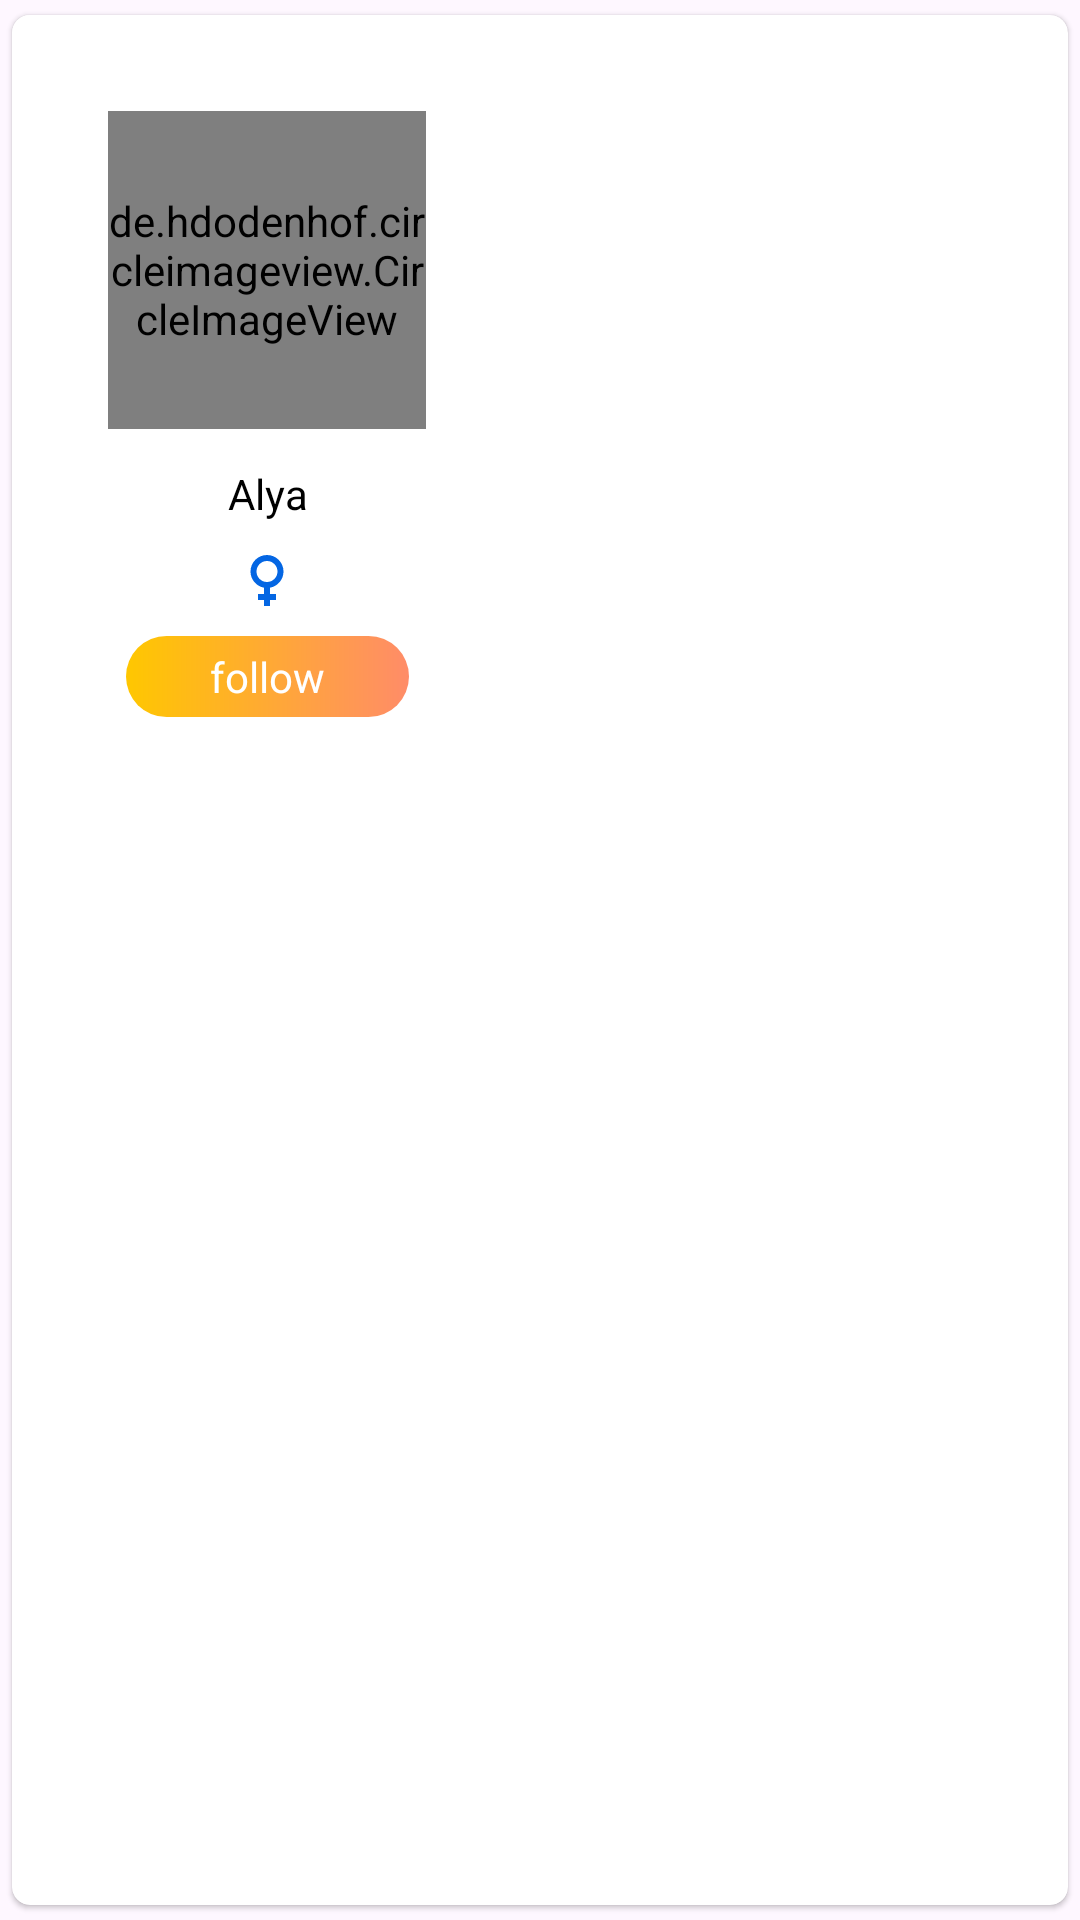

Screen size 1080px×1920px. Icon name, then its center in pixels as [x,y]:
female: [267,580]
